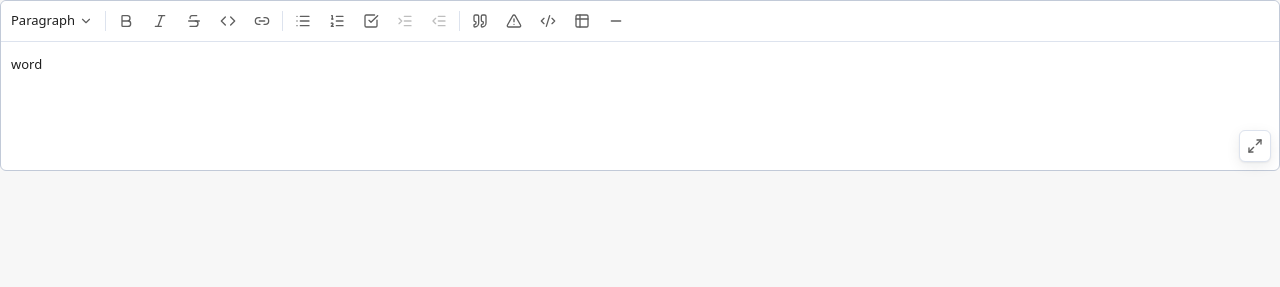
Test: RichTextEditor › picks a heading level from the text style menu
This screenshot has width=1280, height=287.
Expected: the field named "Notes" is shown, [11, 55, 42, 73]
Click the button with aria-label "Text style".
click(53, 21)  # box [5, 5, 101, 37]
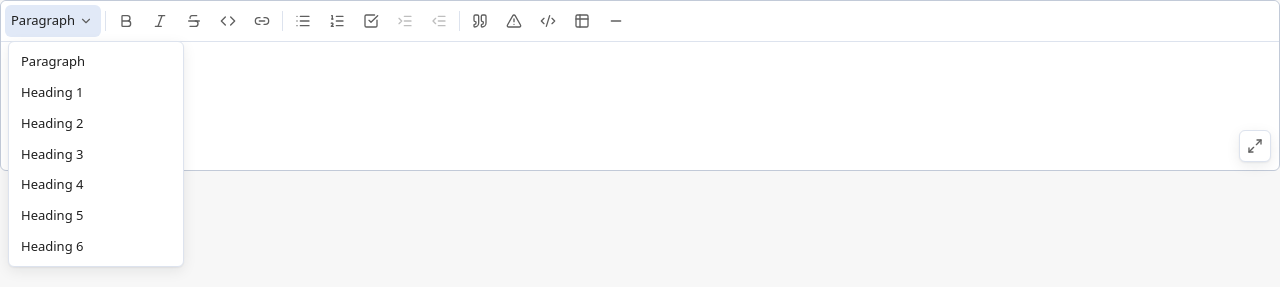
Click the menu item "Heading 3".
click(52, 154)  # box [21, 144, 84, 162]
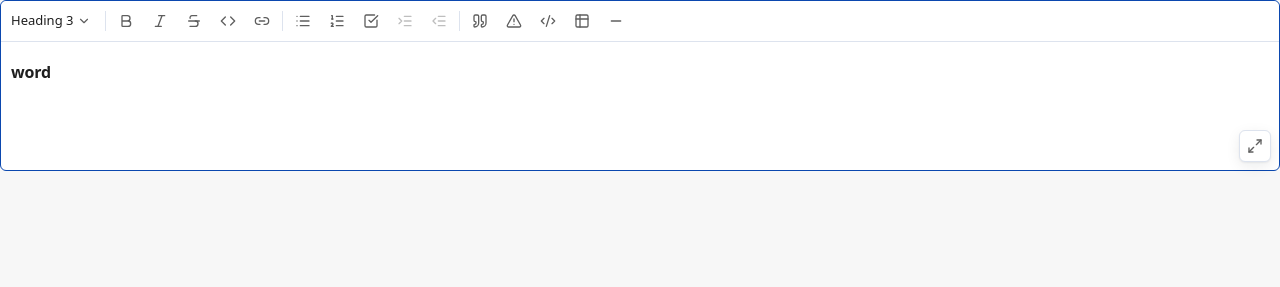
Expected: the button with aria-label "Text style" reads "Heading 3", [5, 5, 101, 37]
